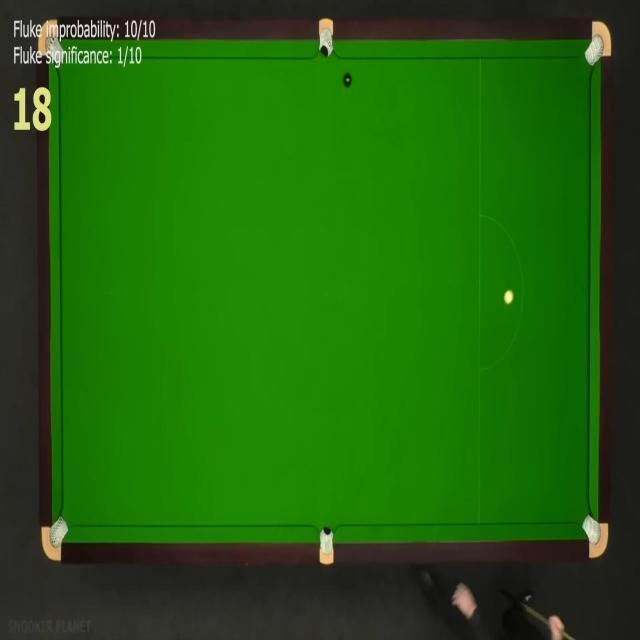Ball: (503, 289, 514, 305), (343, 72, 352, 89)
